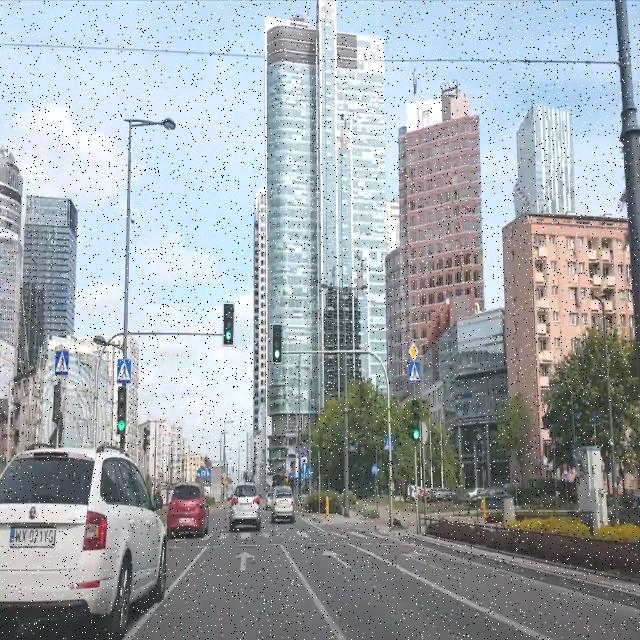Droga z pierwszenstwem: (407, 342, 419, 362)
Przejscie dla pieszych: (116, 358, 132, 384), (54, 350, 68, 376), (408, 360, 422, 382)
